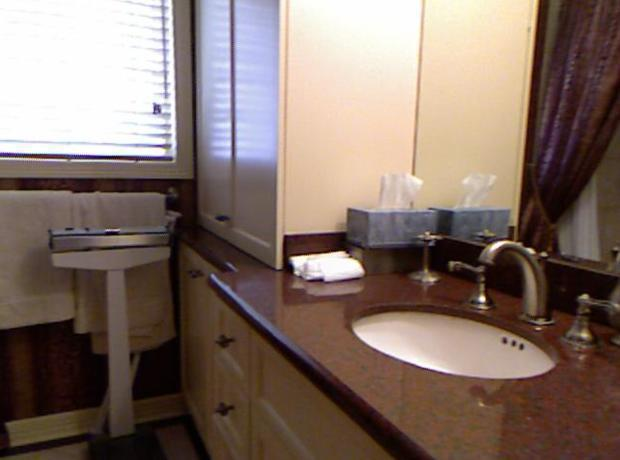Lavamanos: (338, 234, 613, 394)
Otro Obstaculo: (44, 220, 185, 453)
